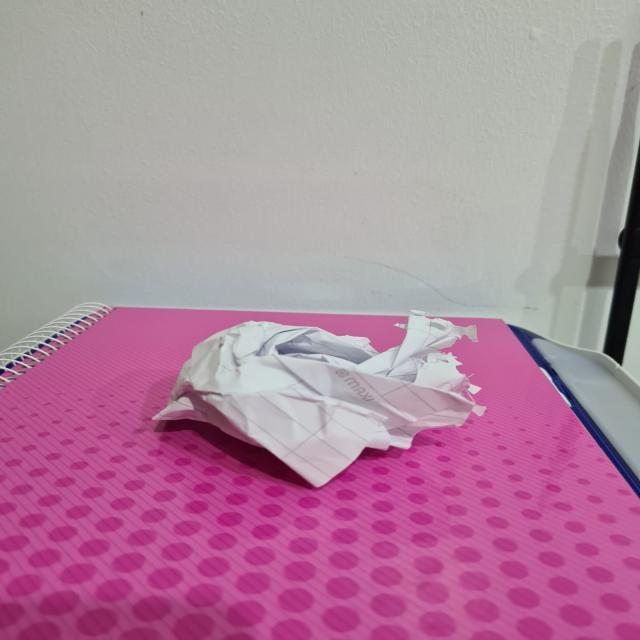Paper: (143, 315, 475, 492)
